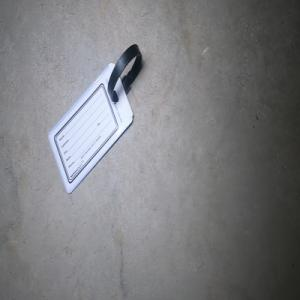LuggageTag: (46, 42, 143, 196)
